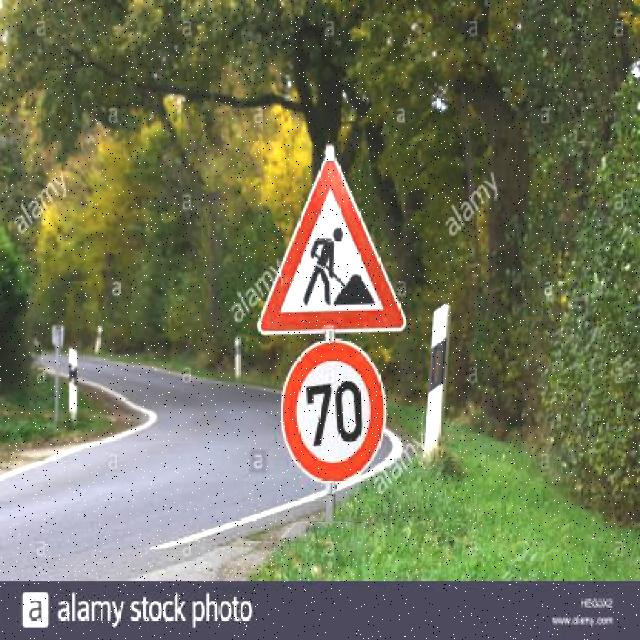Ograniczenie predkosci do 70: (283, 332, 386, 494)
